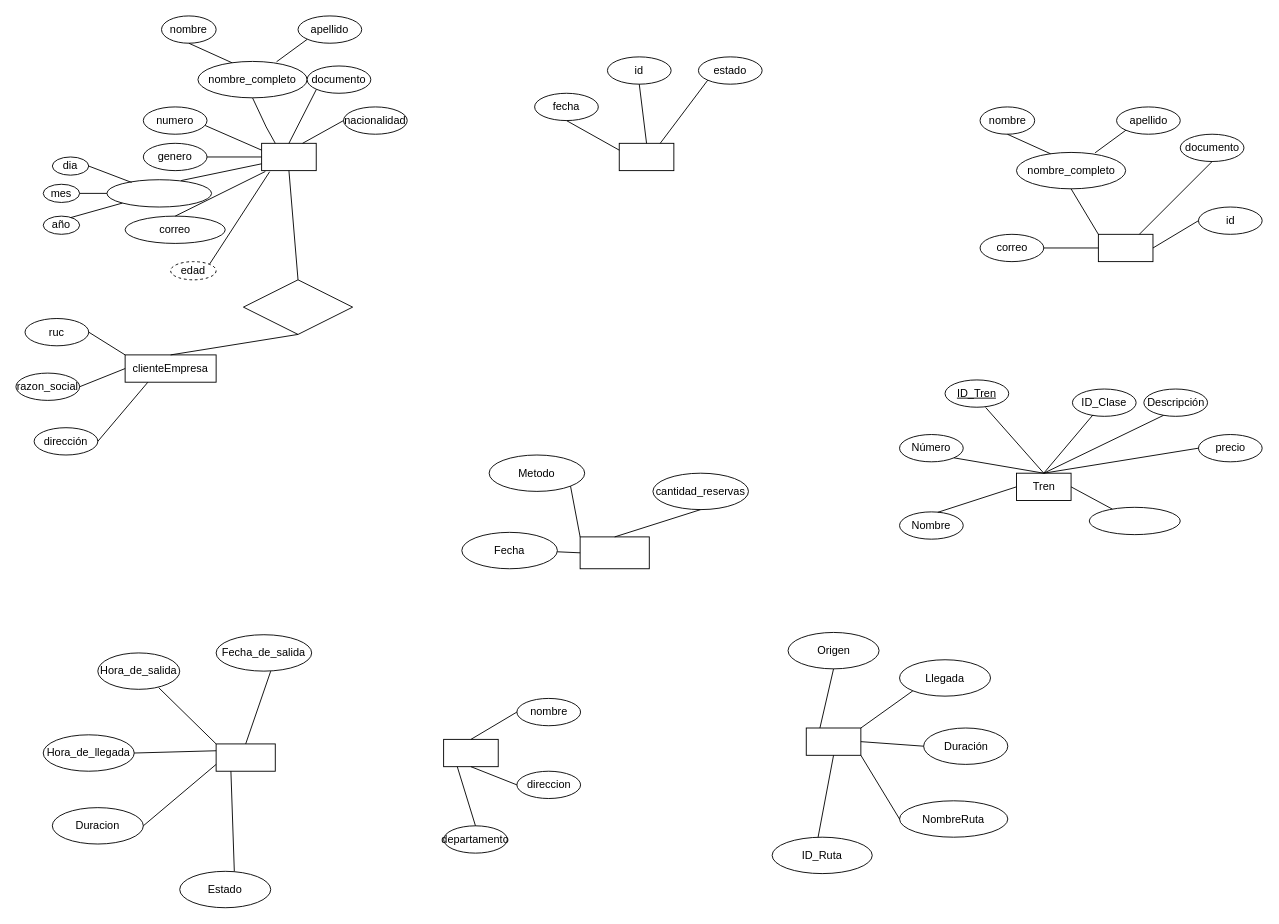
The diagram is 1279 pixels wide and 924 high, and some of its shapes have lost their labels. Here are the shapes that lost their labels. From the top down, the box of each, then its label:
(261, 142, 316, 171): cliente
(618, 142, 674, 171): reserva
(106, 179, 212, 207): fecha_nacimiento
(1097, 233, 1153, 262): empleado
(243, 279, 353, 334): puede ser
(1088, 506, 1180, 535): Capacidad_Total
(579, 536, 649, 569): Pago
(215, 743, 275, 771): Horario
(443, 738, 498, 767): estacion
(805, 727, 861, 755): Ruta
